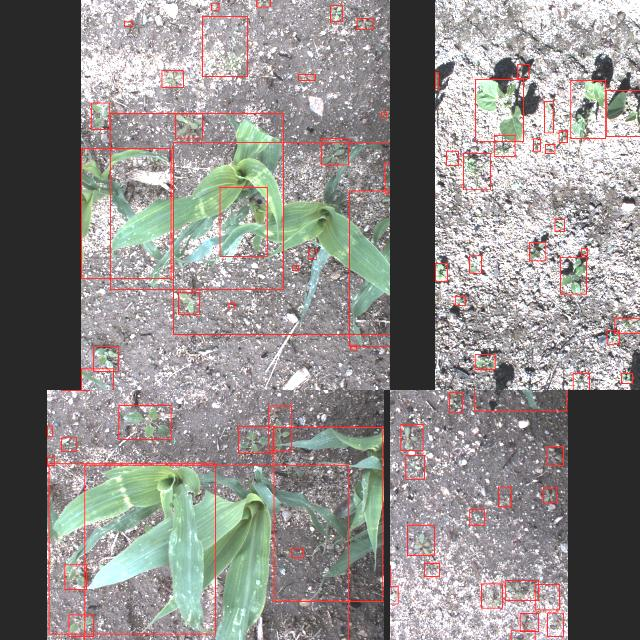crop: (84, 464, 348, 640), (172, 142, 390, 334), (109, 113, 283, 289), (48, 463, 214, 633), (274, 426, 382, 600), (80, 148, 170, 278), (349, 190, 390, 346), (220, 187, 266, 256), (475, 78, 523, 142), (605, 90, 640, 136), (80, 368, 112, 390), (434, 72, 438, 88)
weed: (201, 16, 247, 76), (570, 80, 606, 138), (118, 405, 170, 439), (268, 406, 292, 450), (462, 153, 490, 190), (560, 256, 586, 294), (238, 426, 272, 452), (406, 524, 434, 554), (505, 580, 539, 600), (322, 138, 348, 164), (174, 113, 202, 137), (92, 346, 118, 370), (534, 584, 560, 608), (400, 424, 422, 450), (68, 614, 92, 636), (64, 564, 86, 588), (482, 583, 502, 607), (90, 102, 108, 128), (178, 291, 198, 313), (494, 134, 514, 156), (406, 454, 424, 478), (614, 317, 640, 332), (547, 612, 563, 636), (520, 613, 538, 631), (162, 70, 182, 86), (543, 100, 553, 132), (572, 372, 588, 390), (529, 242, 545, 260), (547, 446, 563, 464), (474, 354, 494, 368), (448, 391, 462, 411), (511, 630, 535, 640), (498, 486, 510, 506), (60, 437, 76, 451), (434, 262, 446, 280), (469, 255, 481, 272), (356, 17, 374, 28), (606, 330, 620, 344), (424, 562, 438, 576), (470, 510, 484, 524), (330, 5, 342, 21), (445, 150, 457, 164), (544, 488, 556, 502), (518, 64, 528, 78), (390, 585, 397, 603), (620, 373, 632, 383), (554, 219, 564, 231), (544, 143, 554, 153), (298, 74, 314, 80), (532, 138, 540, 150), (558, 130, 566, 142), (291, 548, 303, 556), (256, 0, 270, 6), (308, 249, 316, 259), (454, 296, 464, 304), (46, 424, 52, 436), (46, 456, 54, 464), (211, 3, 219, 9), (123, 20, 131, 26), (581, 248, 587, 255), (350, 344, 356, 350), (292, 264, 298, 270), (228, 302, 234, 308), (382, 112, 386, 116)
